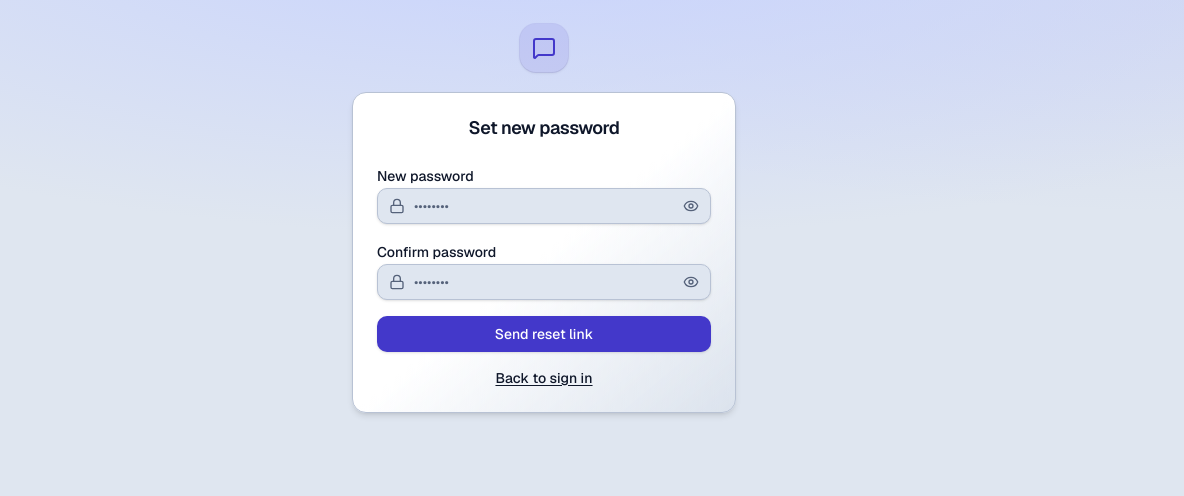
ResetPasswordPage — inner content › shows error when passwords do not match
Type "password1" into the password field labelled "New password". click: [544, 206]
box: [377,188,711,224]
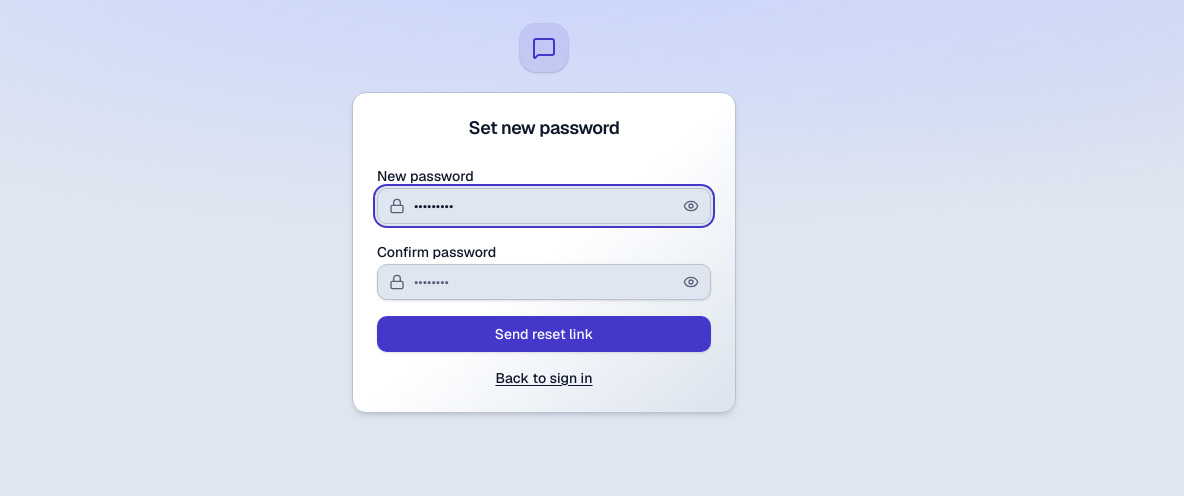
Type "password2" into the password field labelled "Confirm password". click: [544, 282]
box: [377,264,711,300]
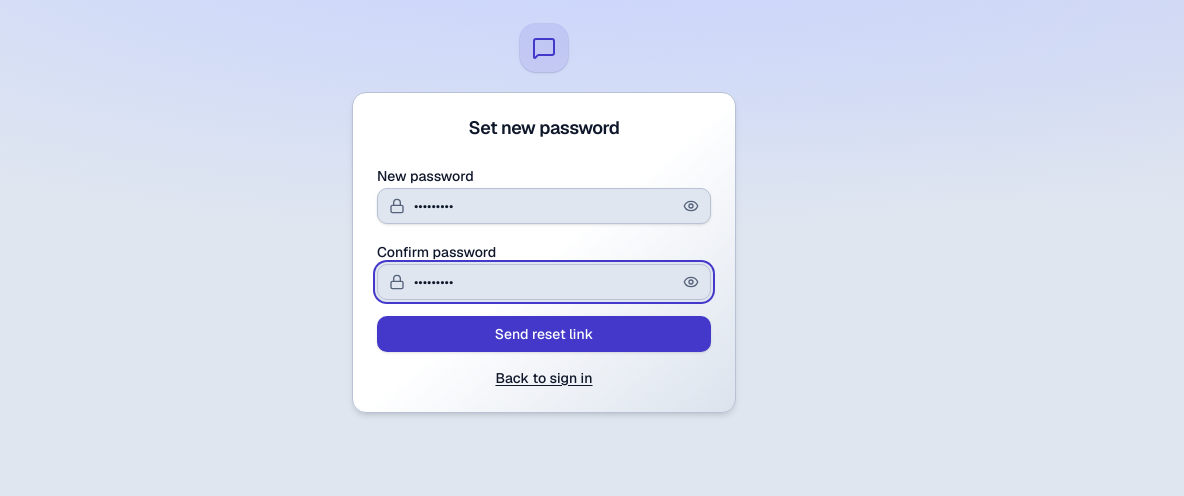
Click the button "Send reset link". click: [544, 334]
box: [377,316,711,352]
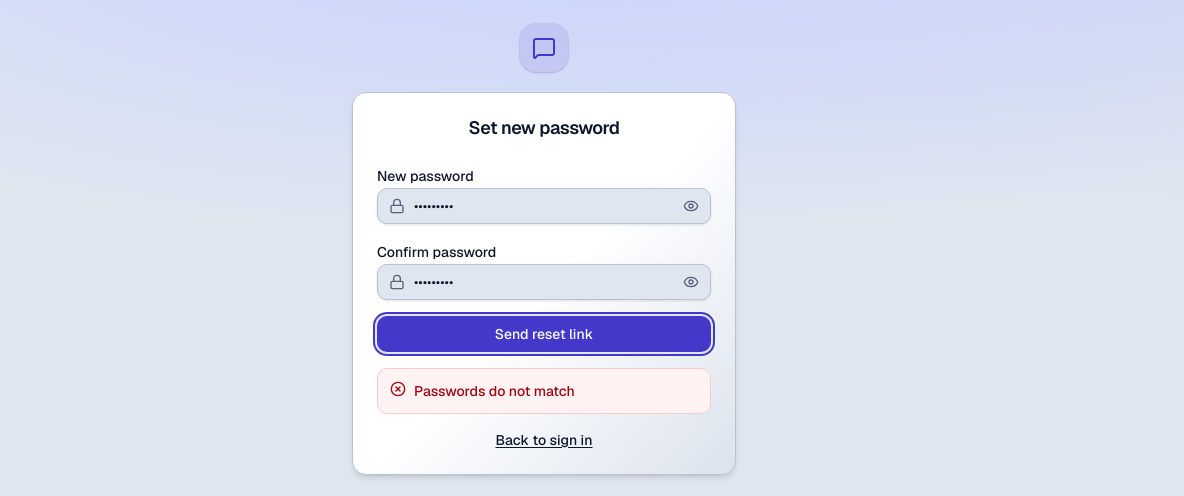
expect the text "Passwords do not match" is shown: met, box [414,382,575,400]
